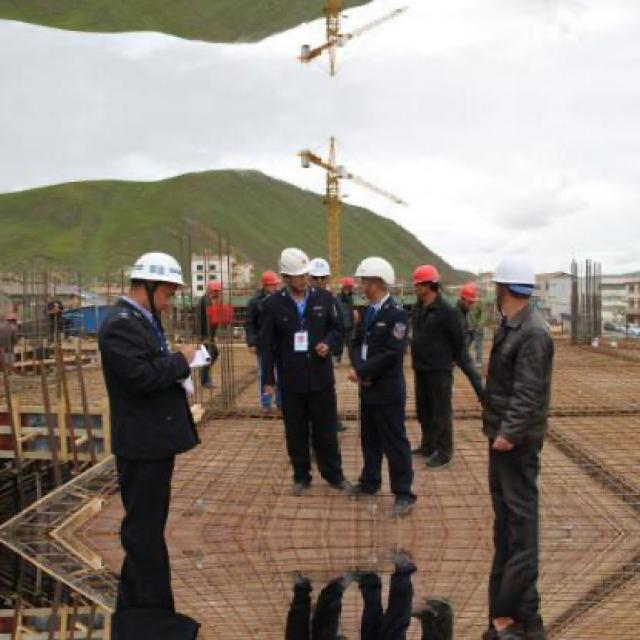helmet: (123, 252, 188, 320), (486, 256, 539, 316), (354, 255, 398, 298), (280, 245, 312, 290), (411, 265, 440, 304), (308, 256, 329, 291), (260, 270, 282, 296), (457, 282, 477, 310), (202, 279, 223, 298), (342, 275, 356, 296)
